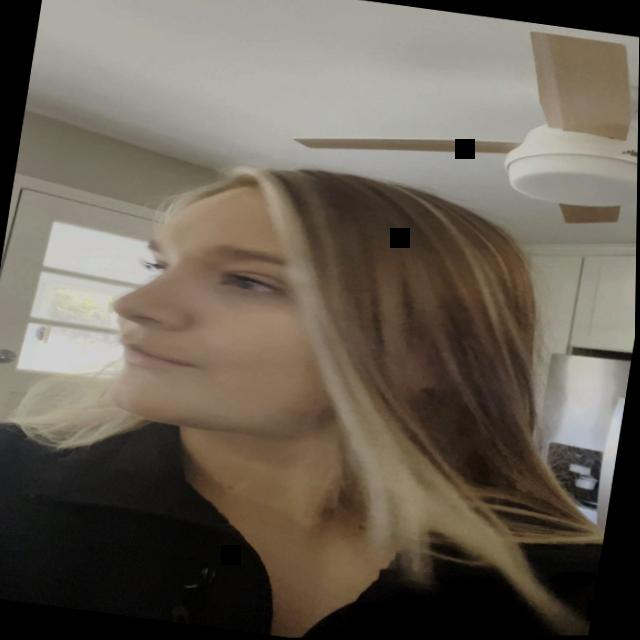NO-Mask: (97, 162, 376, 451)
